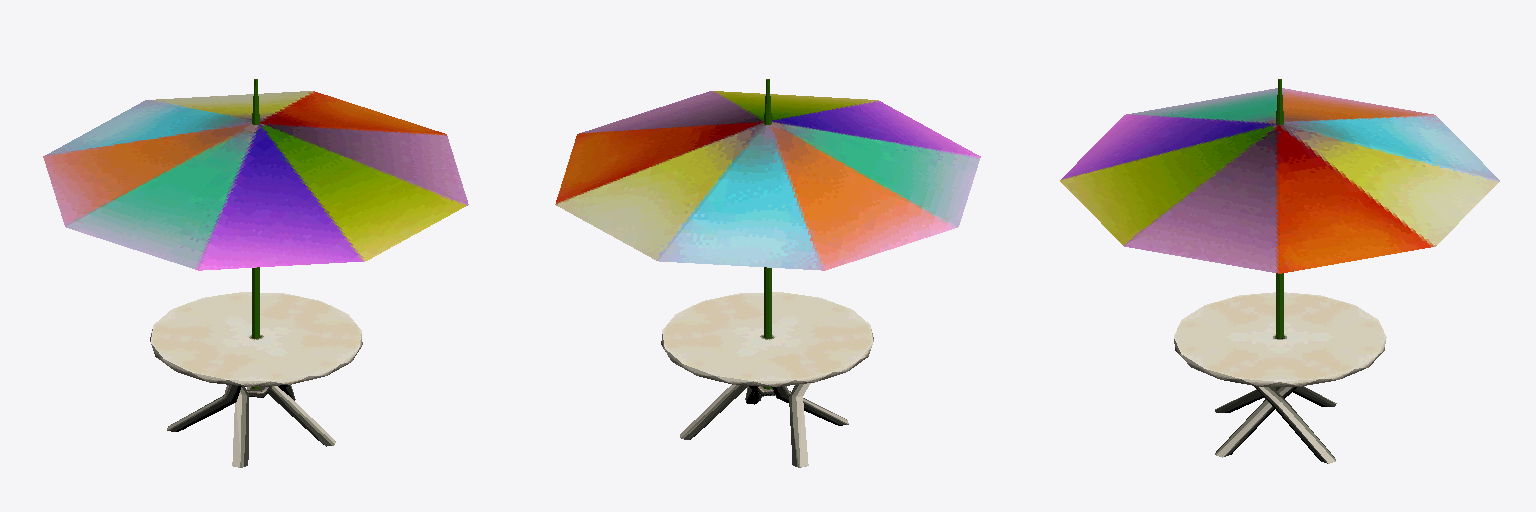
3 renders of one model, left to right at view 1: azimuth 30°, elevation 25°; view 2: azimuth 150°, elevation 25°; view 3: azimuth 270°, elevation 25°, orthographic.
Visible parts, largest first — view 1: table; view 2: table; view 3: table.
Boxes of the visible parts, <box> form: table: <box>43,79,468,467</box>; table: <box>555,79,980,467</box>; table: <box>1060,79,1499,463</box>.
Size of the model in its own units: 443 by 392 by 443.
2 materials, 2 textured.